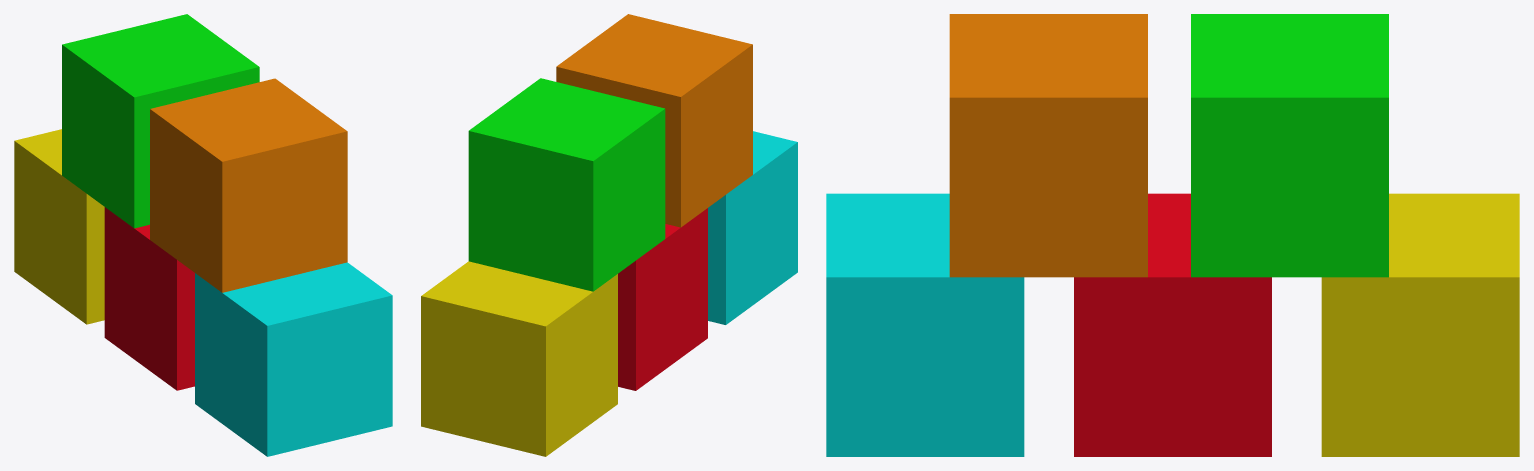
The model's file is Cubs_static.glb.
3 views of the same model, side by side, from view 1: azimuth 30°, elevation 25°; view 2: azimuth 150°, elevation 25°; view 3: azimuth 270°, elevation 25° (orthographic). The views are drawn at different scales.
Visible parts, largest first — view 1: Cube.004, Cube.003, Cube.005, Cube.002, Cube.001; view 2: Cube.005, Cube.002, Cube.004, Cube.003, Cube.001; view 3: Cube.004, Cube.005, Cube.002, Cube.003, Cube.001.
Boxes of the visible parts, box(x1,y1,x2,y2) form: Cube.004: box(150, 78, 347, 292); Cube.003: box(195, 262, 392, 456); Cube.005: box(62, 14, 259, 228); Cube.002: box(14, 129, 104, 324); Cube.001: box(104, 207, 194, 390); Cube.005: box(468, 78, 665, 291); Cube.002: box(421, 261, 617, 456); Cube.004: box(556, 14, 752, 227); Cube.003: box(708, 131, 797, 324); Cube.001: box(618, 208, 707, 390); Cube.004: box(949, 14, 1147, 277); Cube.005: box(1191, 14, 1388, 277); Cube.002: box(1321, 193, 1519, 456); Cube.003: box(826, 193, 1024, 456); Cube.001: box(1074, 193, 1271, 456).
Bounding box in the file's own units: 2 × 4 × 7.
